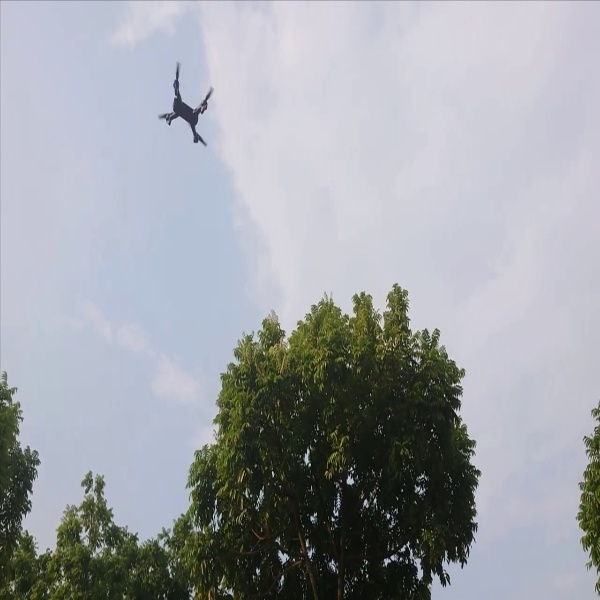drone: (157, 59, 218, 155)
